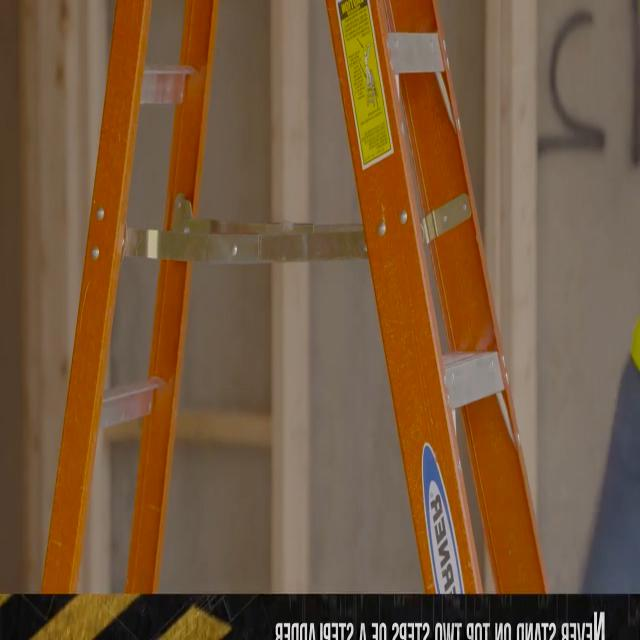person: (580, 312, 640, 595)
vest: (629, 318, 640, 374)
